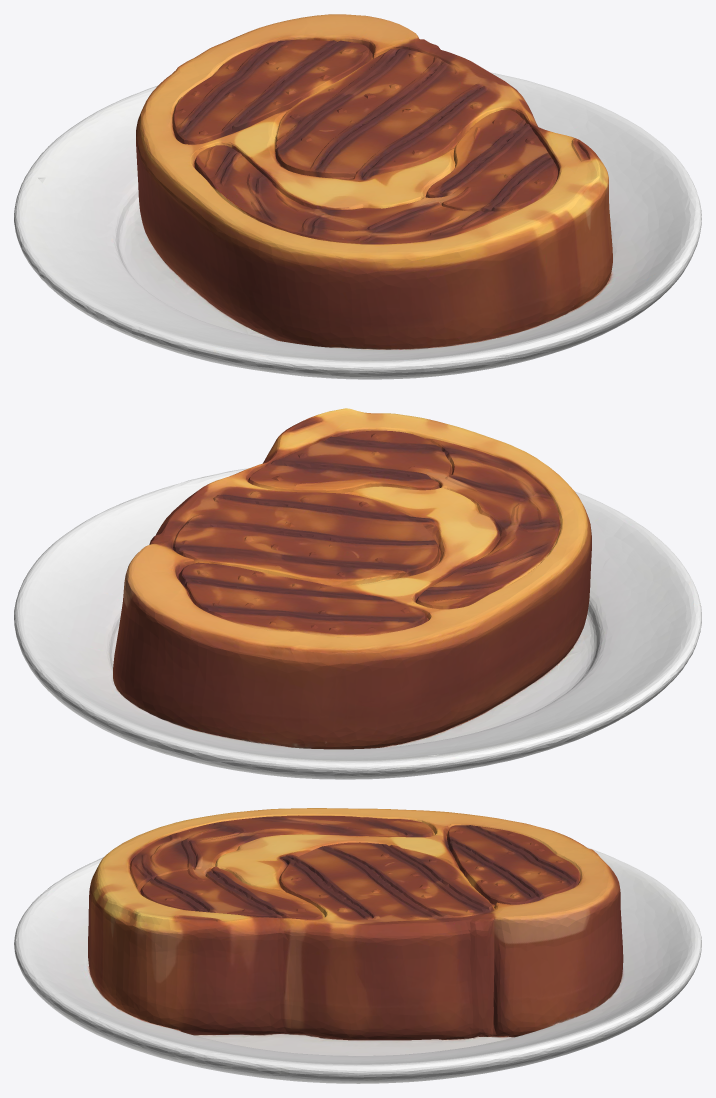
The model's file is meal_10.glb.
3 views of the same model, one above another, from view 1: azimuth 30°, elevation 25°; view 2: azimuth 150°, elevation 25°; view 3: azimuth 270°, elevation 25° (orthographic). The views are drawn at different scales.
Parts seen in each view (by area): view 1: tripo_node_52a6f4cd-7dc4-4542-a787-cdfdba183963; view 2: tripo_node_52a6f4cd-7dc4-4542-a787-cdfdba183963; view 3: tripo_node_52a6f4cd-7dc4-4542-a787-cdfdba183963.
Part boxes in pixels (bbox=[...]): tripo_node_52a6f4cd-7dc4-4542-a787-cdfdba183963: bbox=[14, 14, 701, 379]; tripo_node_52a6f4cd-7dc4-4542-a787-cdfdba183963: bbox=[14, 408, 701, 779]; tripo_node_52a6f4cd-7dc4-4542-a787-cdfdba183963: bbox=[14, 808, 701, 1083].
Size of the model in its own units: 0.9371 by 0.2265 by 1.
Materials: 1 (1 with a texture image).
